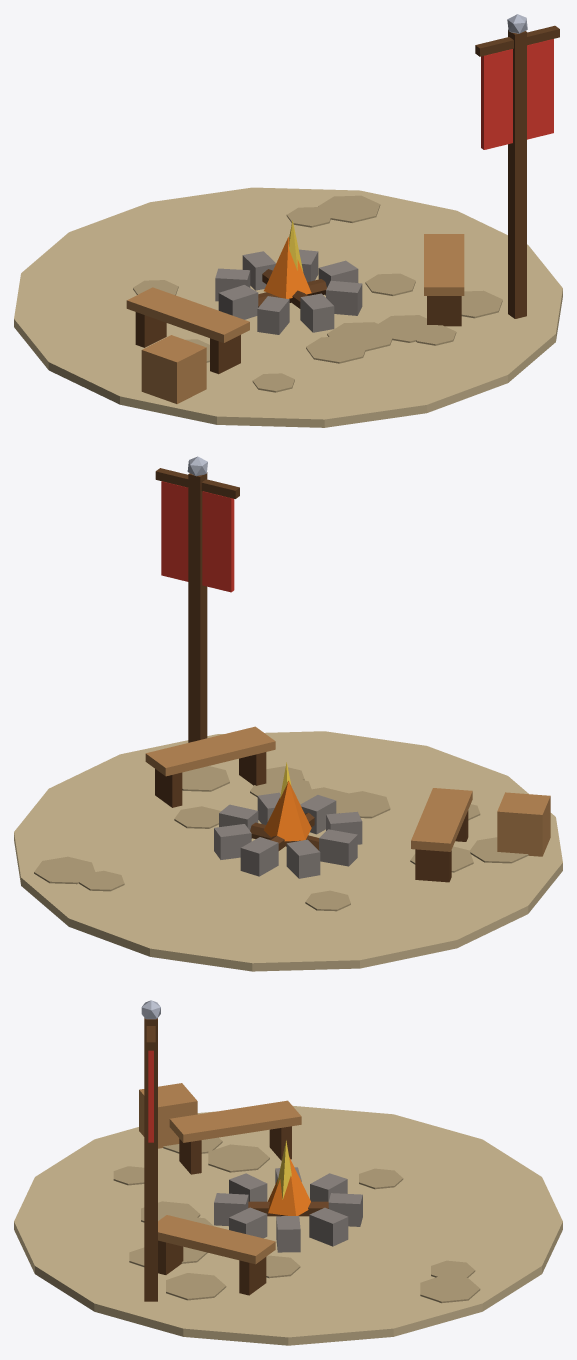
File: Plaza.fbx
3 renders of one model, top to bottom at view 1: azimuth 30°, elevation 25°; view 2: azimuth 150°, elevation 25°; view 3: azimuth 270°, elevation 25°, orthographic.
Parts seen in each view (by area): view 1: Plaza; view 2: Plaza; view 3: Plaza.
Part boxes in pixels (bbox=[...]): Plaza: bbox=[14, 14, 562, 427]; Plaza: bbox=[14, 456, 562, 971]; Plaza: bbox=[14, 1000, 562, 1345].
Size of the model in its own units: 4.8 by 2.96 by 4.8.
